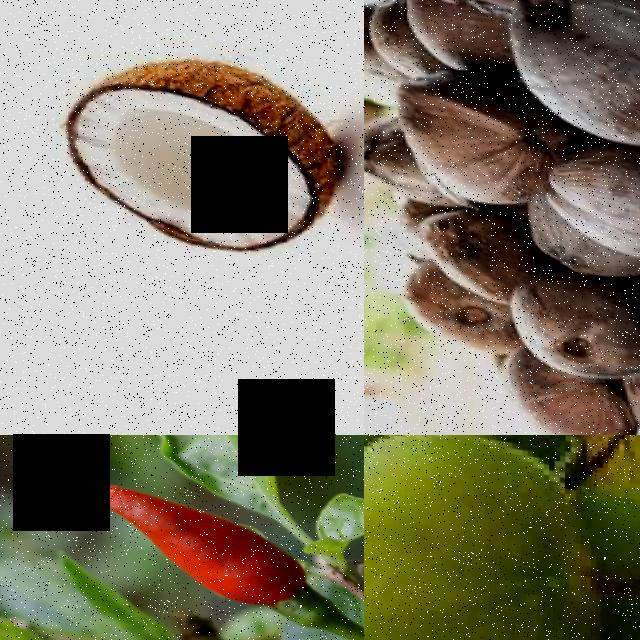chilli: (77, 470, 342, 624)
coconut: (42, 27, 353, 263), (364, 435, 601, 640), (385, 58, 554, 211), (496, 0, 640, 152), (494, 261, 640, 380), (537, 122, 640, 257)
